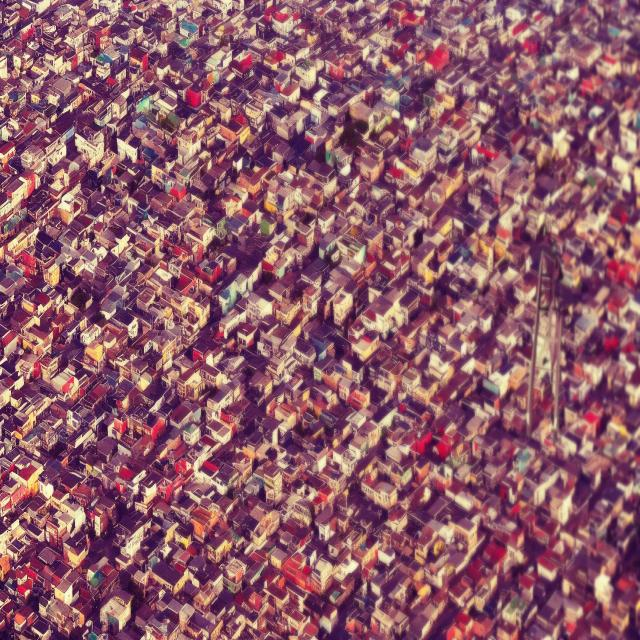airplane: (524, 249, 566, 441)
